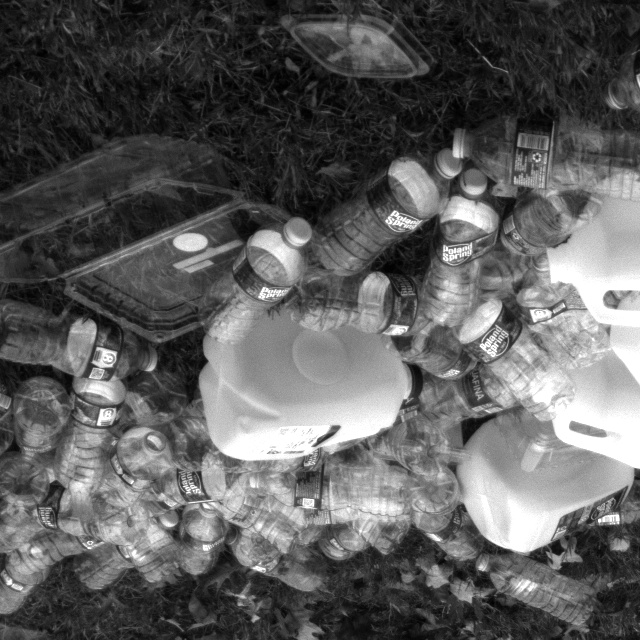bottle: (296, 133, 468, 297), (438, 116, 640, 208), (408, 173, 513, 335), (217, 461, 437, 533), (47, 332, 130, 514), (0, 496, 134, 597), (481, 551, 603, 632), (160, 491, 239, 590), (586, 0, 640, 133)
can: (186, 301, 416, 464), (446, 413, 640, 570), (537, 166, 640, 321), (541, 346, 640, 471)
container: (0, 119, 342, 363), (282, 2, 418, 96)
